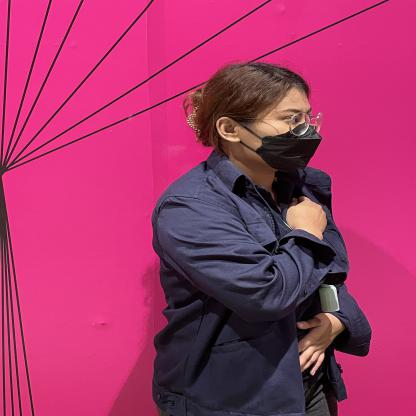Sadness: (252, 183, 380, 278)
